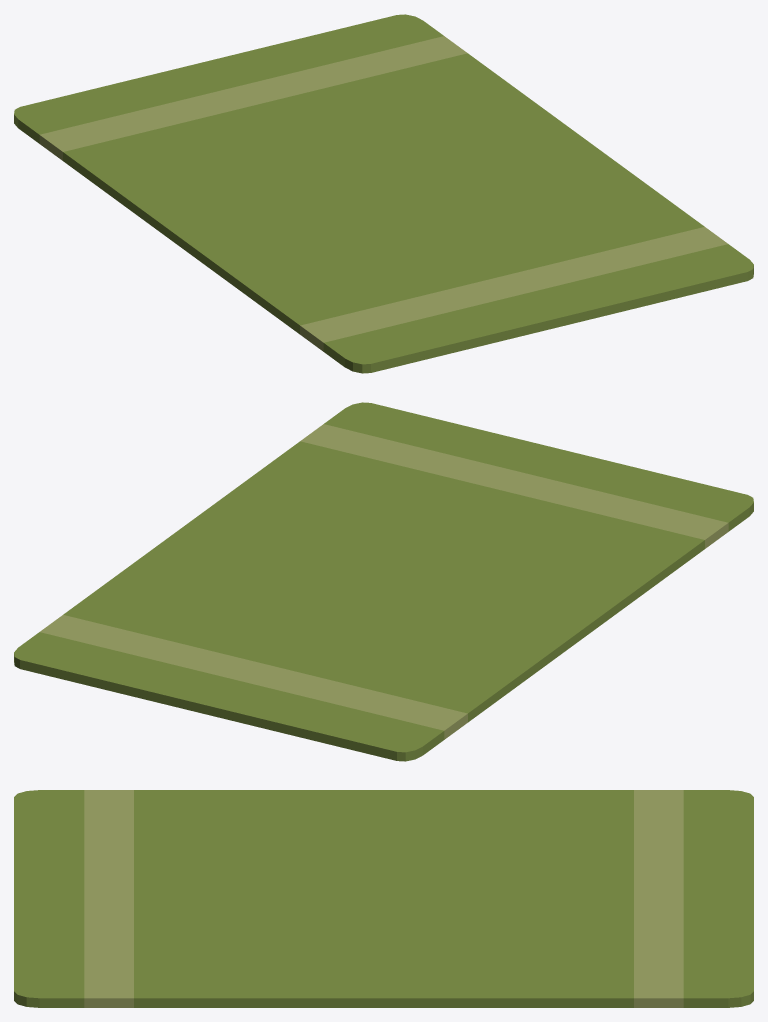
Rendered from Carpet_01.fbx.
The picture shows the model from 3 angles, top to bottom: view 1: azimuth 30°, elevation 25°; view 2: azimuth 150°, elevation 25°; view 3: azimuth 270°, elevation 25°; orthographic projection. The views are drawn at different scales.
Visible parts, largest first — view 1: Carpet_01; view 2: Carpet_01; view 3: Carpet_01.
Part boxes in pixels (<box>): Carpet_01: <box>14,14,753,373</box>; Carpet_01: <box>14,402,753,761</box>; Carpet_01: <box>14,790,753,1007</box>.
Bounding box in the file's own units: 63.68 × 1.38 × 95.64.
